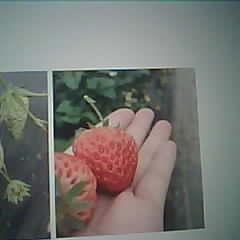straw-ripe: (76, 129, 136, 192), (54, 153, 97, 234)
straw-unripe: (1, 87, 29, 139)
